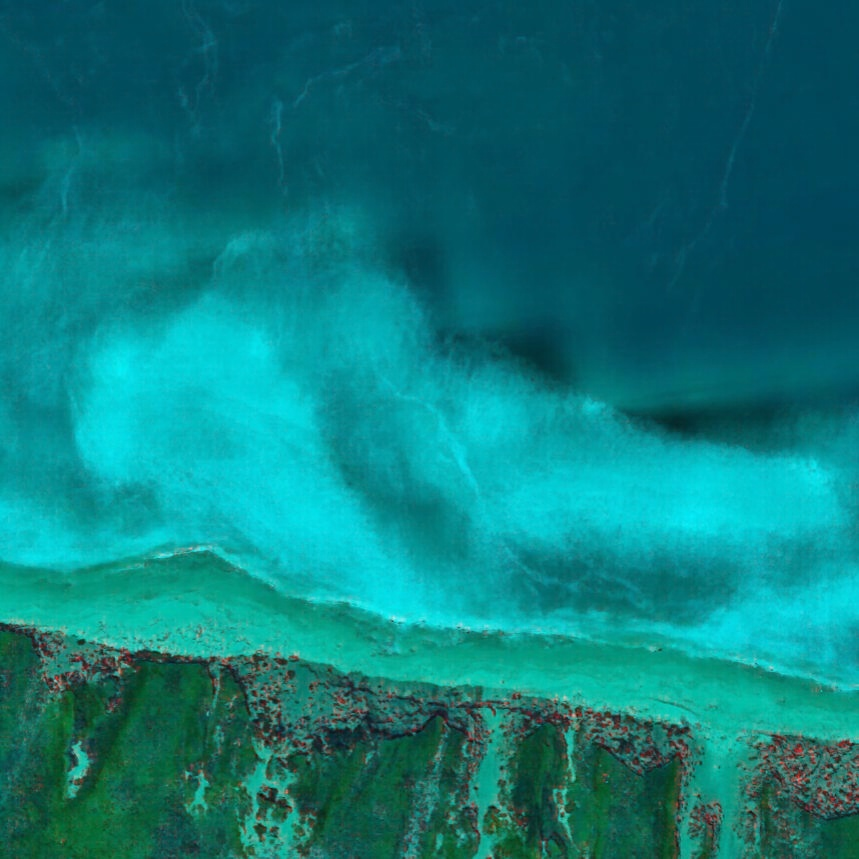rip_current: (216, 233, 552, 621)
